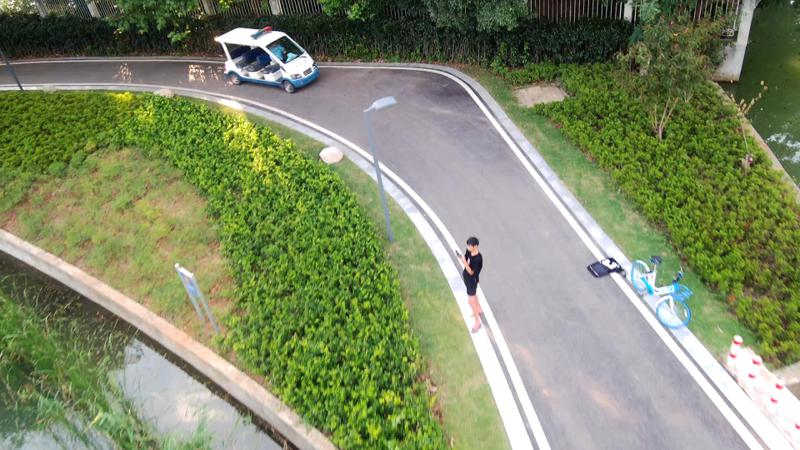passerby: (455, 236, 484, 333)
